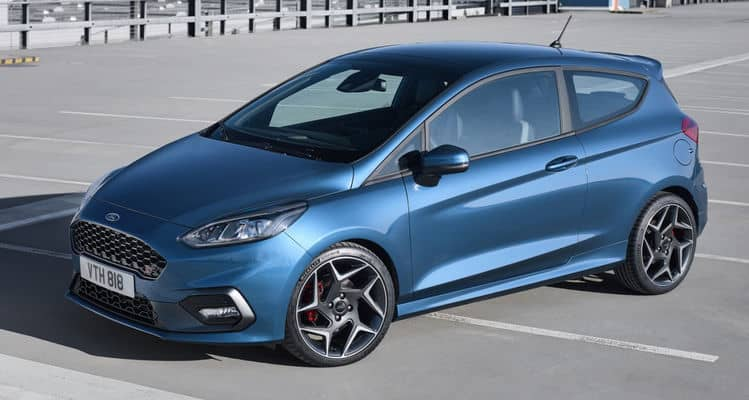car: (64, 14, 711, 365)
